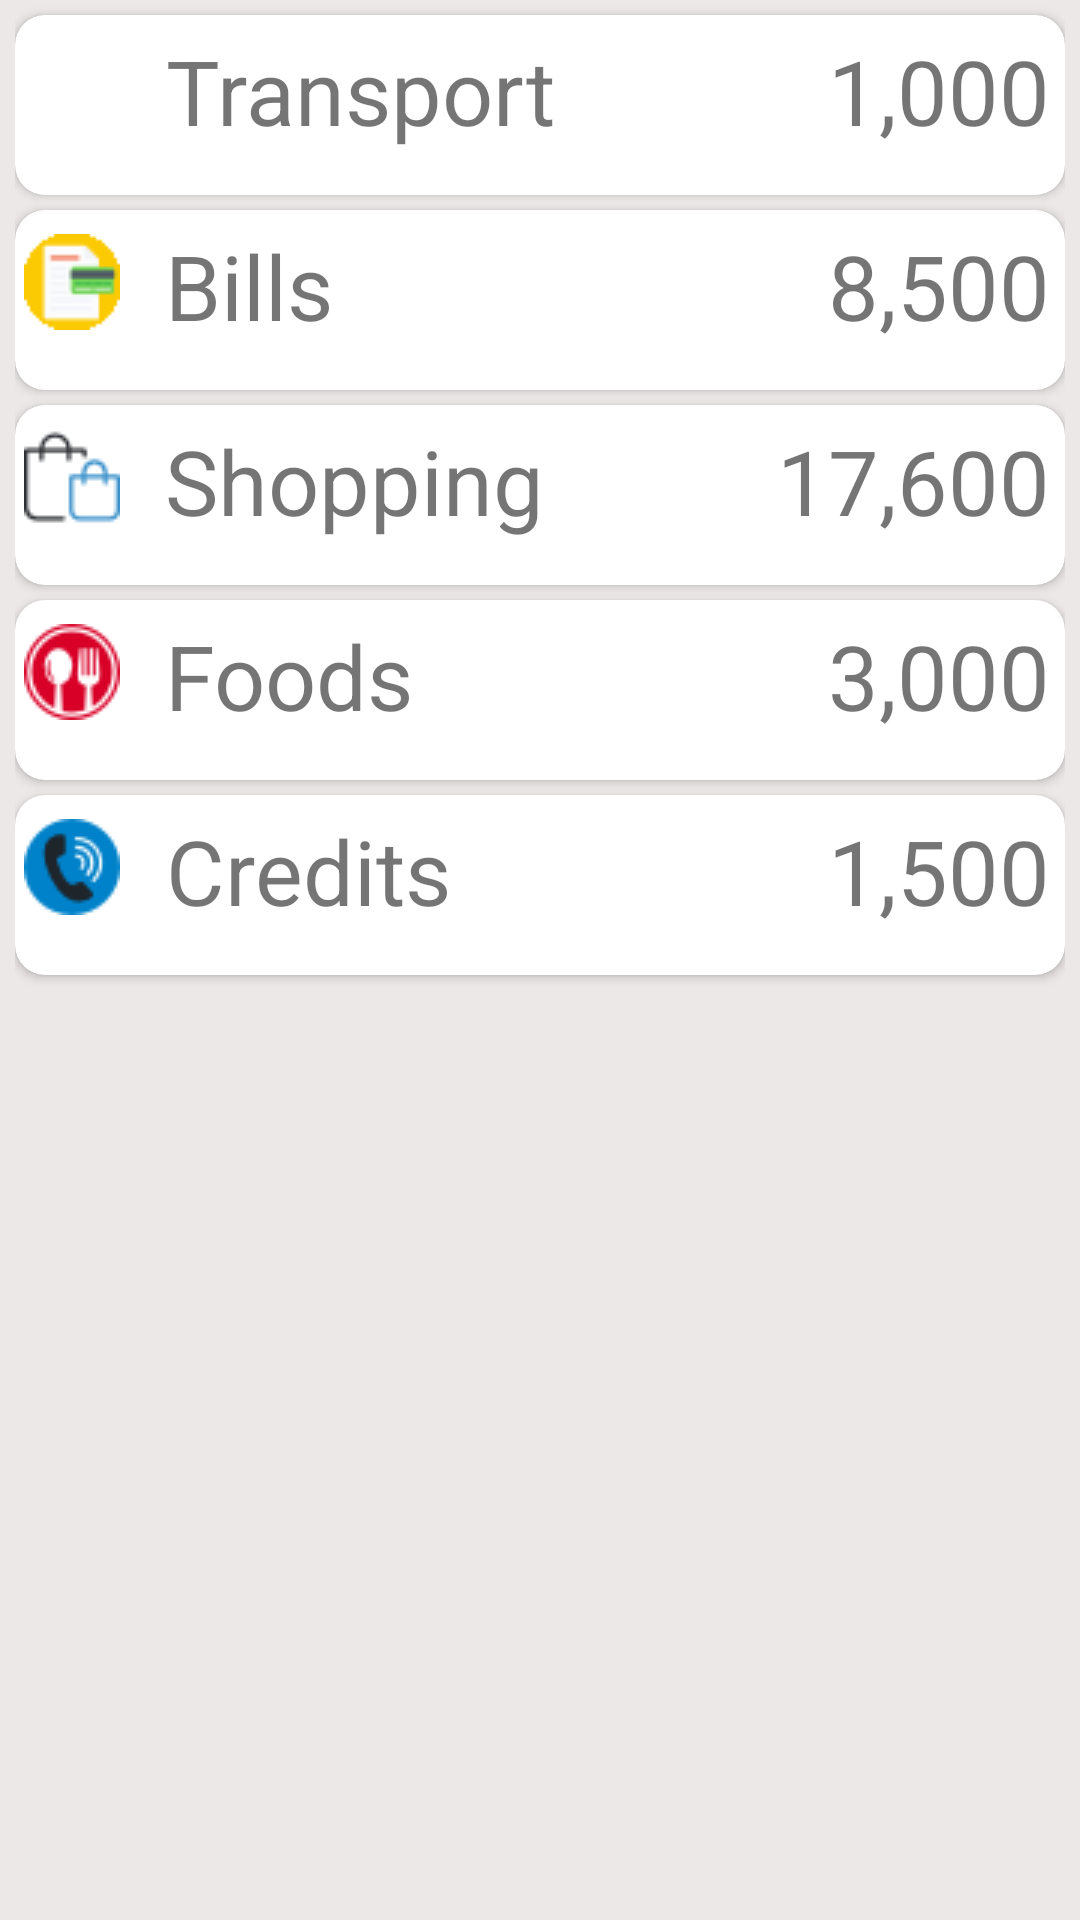

Icon click points for this 1080x1920 phone screenshot, format point (x, y):
invoice: point (72, 282)
phone call: point (72, 867)
